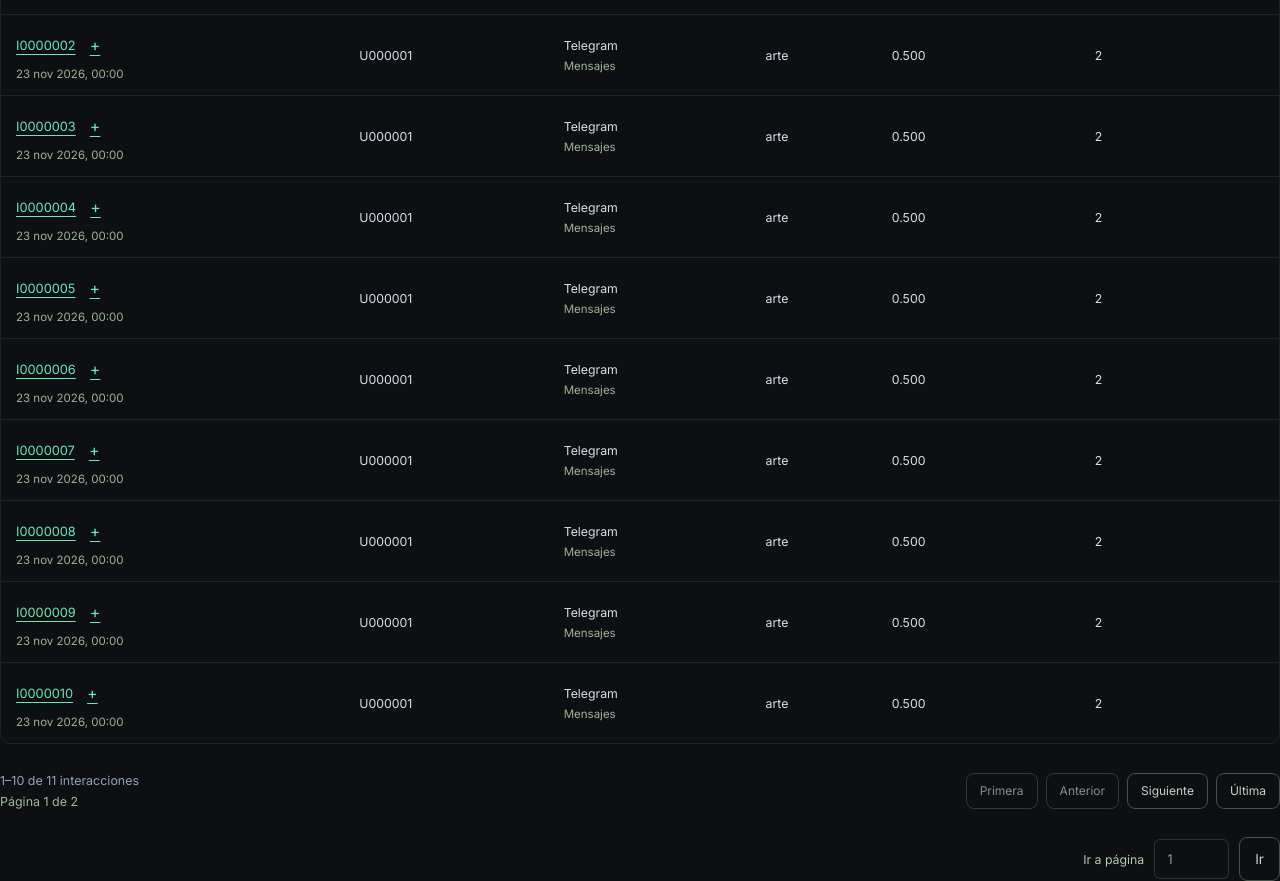
Test: busca solo al confirmar, conserva filtros generales y reinicia página al cambiar la consulta
(page scrolled)
Click the button "Siguiente" at (1167, 790), box x1=1127 y1=772 x2=1208 y2=808
(page scrolled)
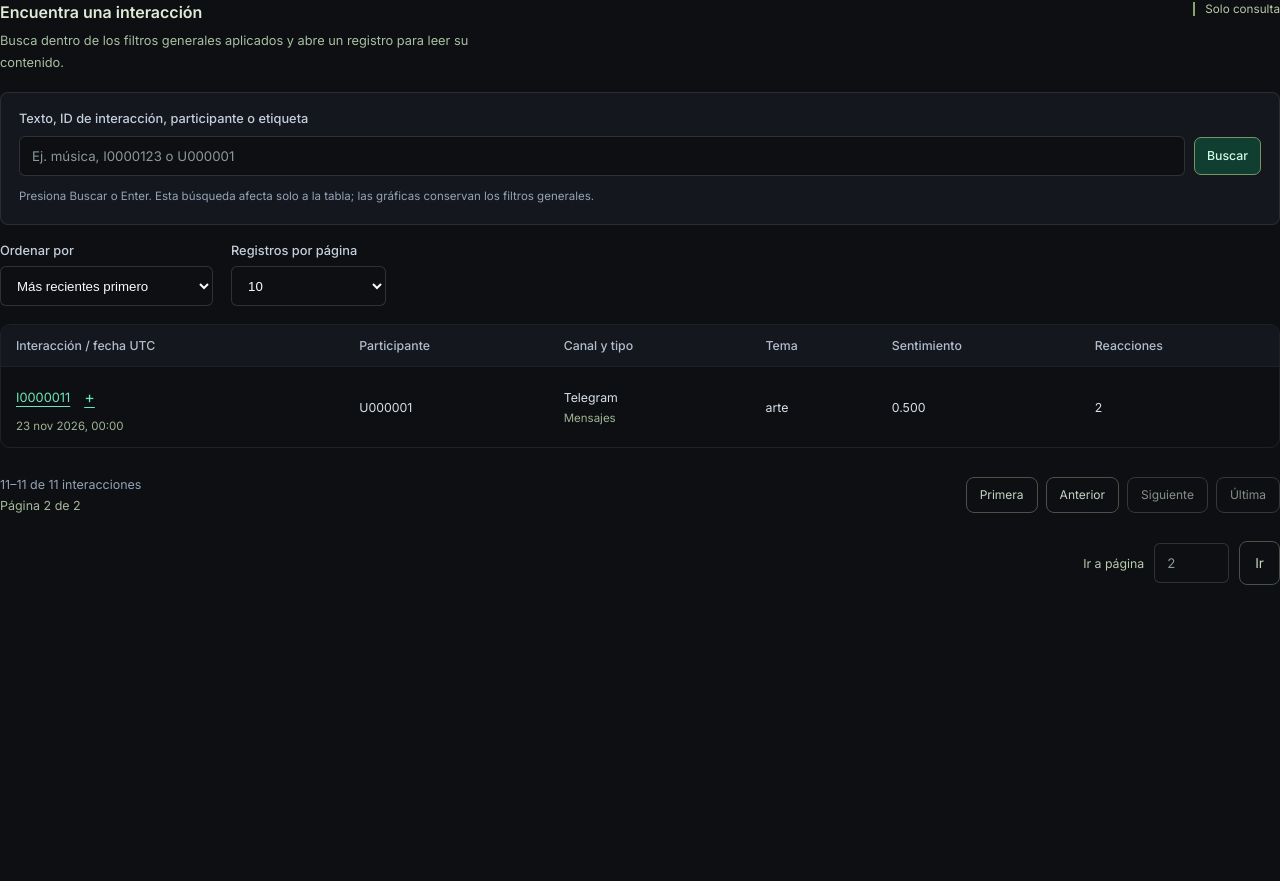
Now the button "I0000011 +" is shown, box x1=16 y1=381 x2=95 y2=413
Type "música" into the search field at (602, 156), box x1=19 y1=136 x2=1185 y2=176
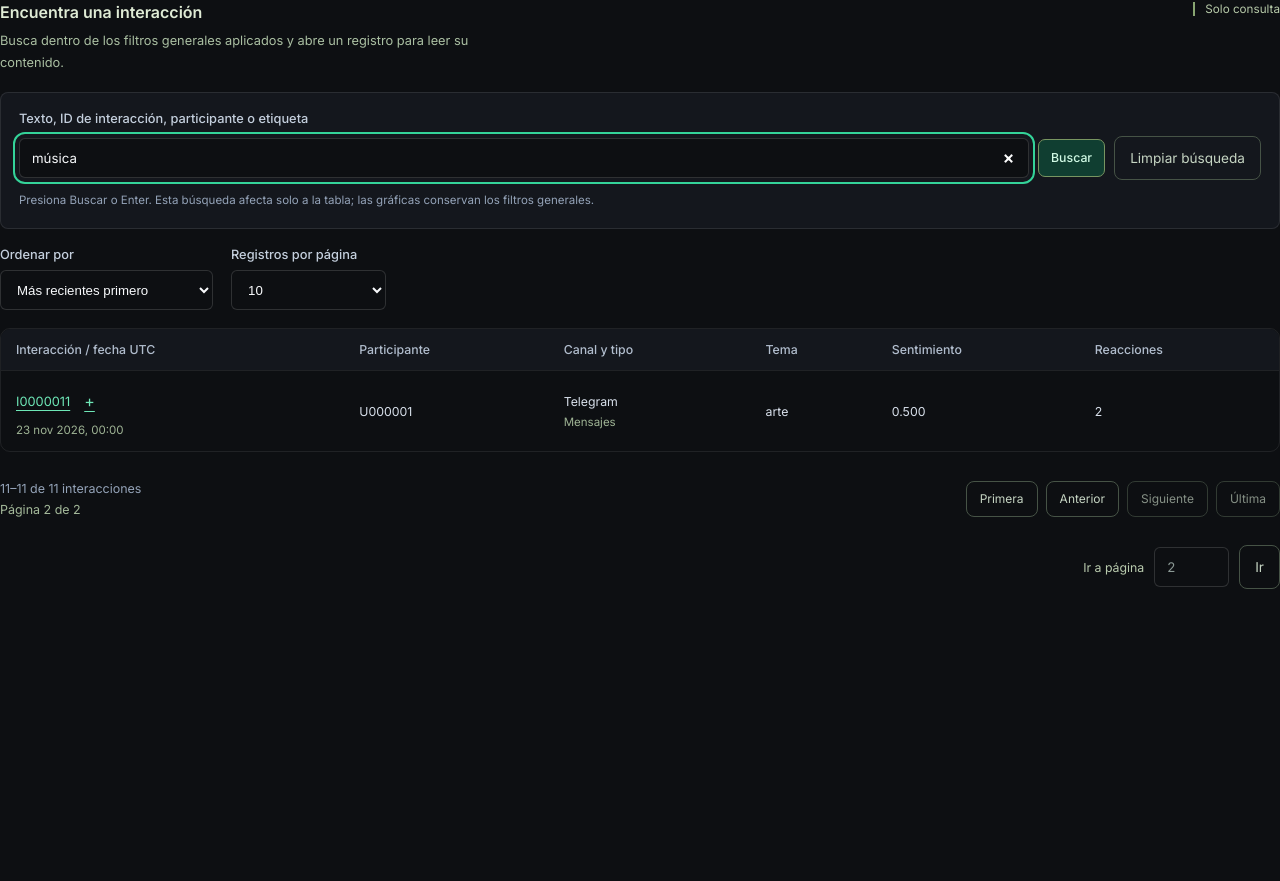
Click the button "Buscar" at (1072, 158), box x1=1038 y1=138 x2=1105 y2=176
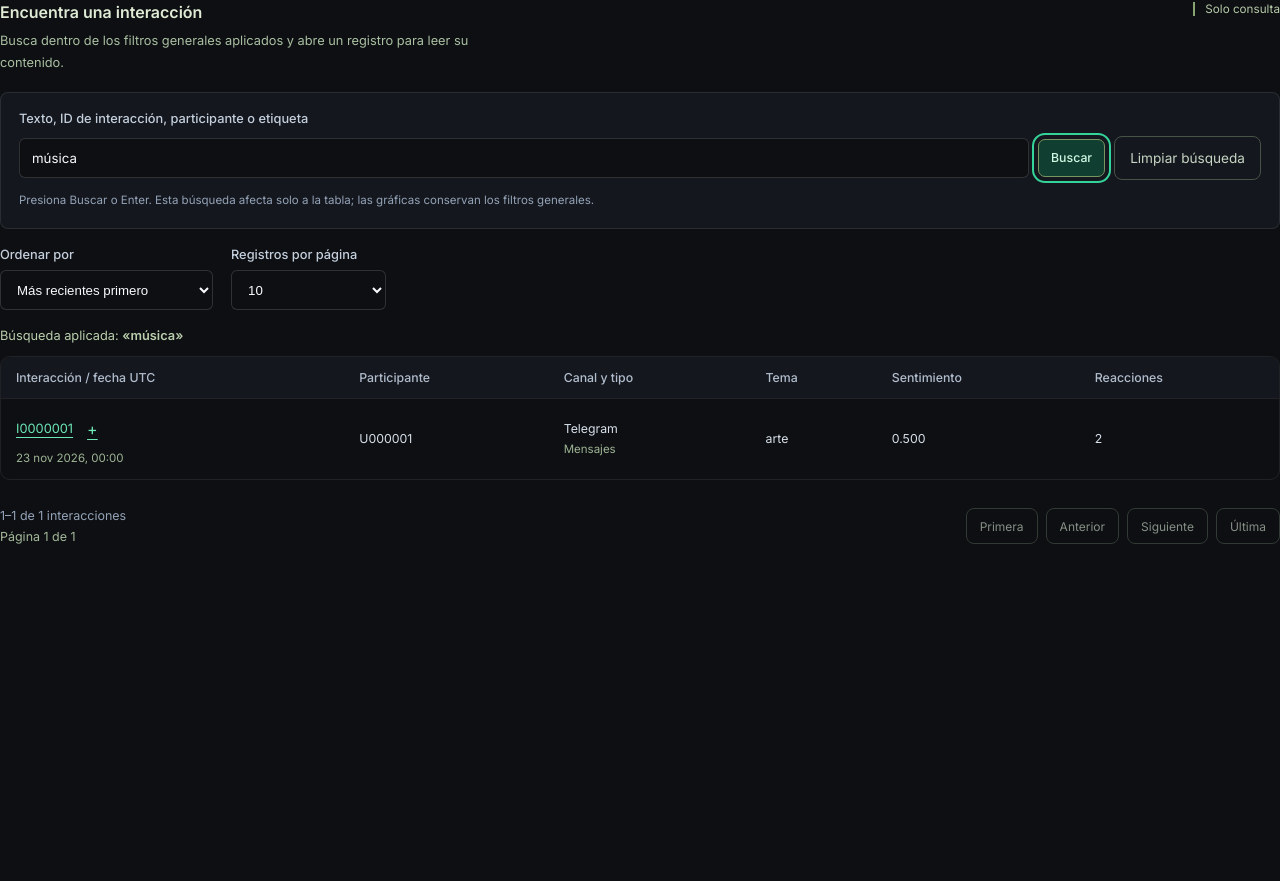
Now the button "I0000001 +" is shown, box x1=16 y1=413 x2=98 y2=445
Click the button "Limpiar búsqueda" at (1188, 158), box x1=1114 y1=136 x2=1261 y2=180
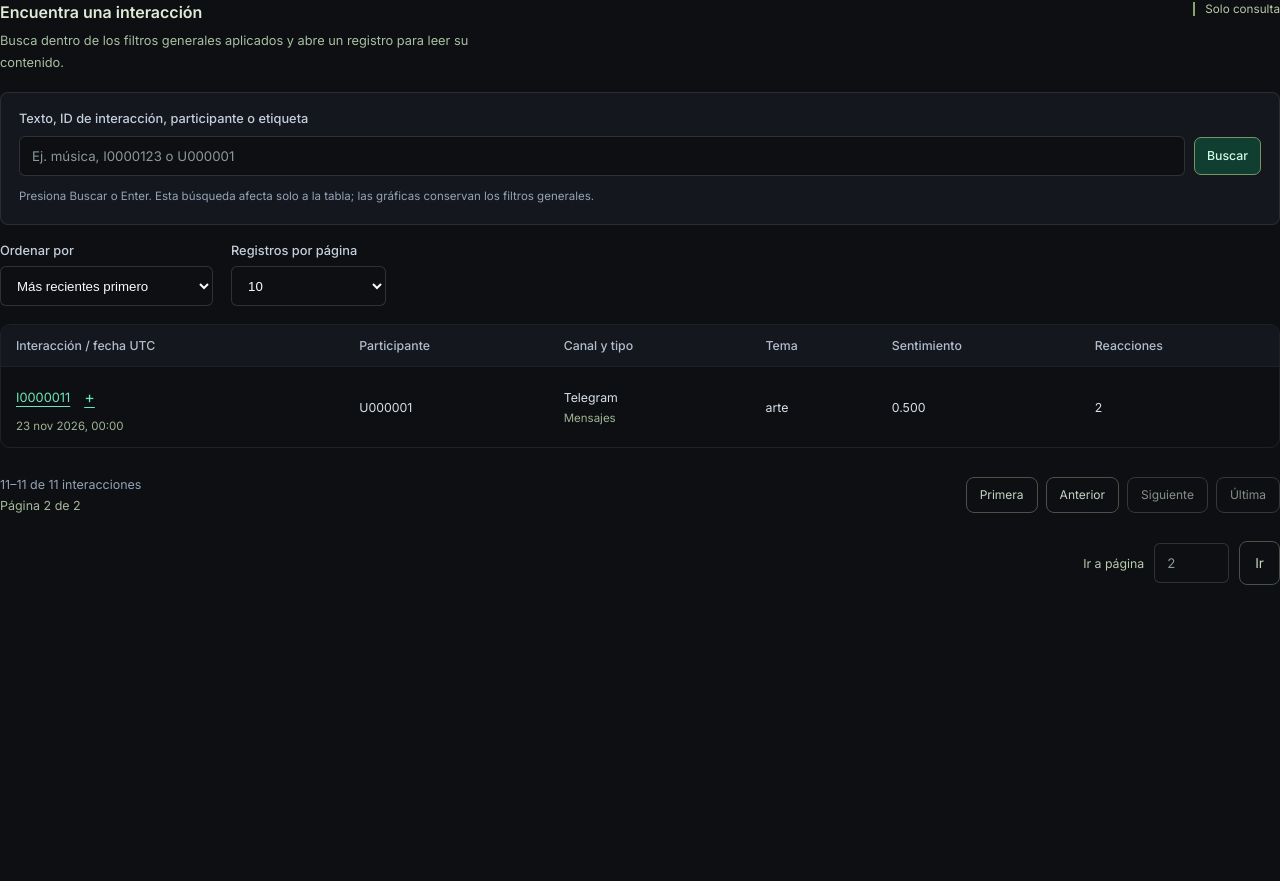
Now the button "Última" is shown, box x1=1216 y1=476 x2=1279 y2=512
